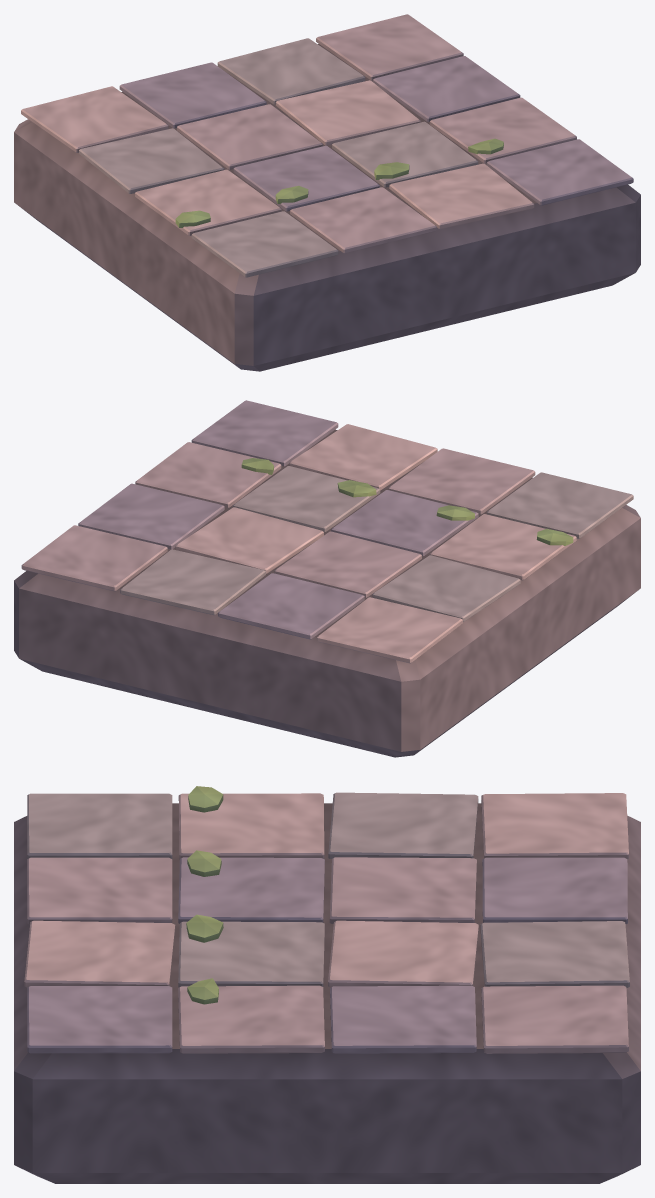
The model's file is dusk_floor_2.glb.
The picture shows the model from 3 angles, top to bottom: view 1: azimuth 30°, elevation 25°; view 2: azimuth 150°, elevation 25°; view 3: azimuth 270°, elevation 25°; orthographic projection. The views are drawn at different scales.
Parts seen in each view (by area): view 1: Dämmergänge · Platten und Moos.002; view 2: Dämmergänge · Platten und Moos.002; view 3: Dämmergänge · Platten und Moos.002.
Boxes of the visible parts, x1=… form: Dämmergänge · Platten und Moos.002: x1=14, y1=14, x2=640, y2=371; Dämmergänge · Platten und Moos.002: x1=14, y1=400, x2=640, y2=757; Dämmergänge · Platten und Moos.002: x1=14, y1=786, x2=640, y2=1183.
Bounding box in the file's own units: 2.4 × 0.631 × 2.4.
1 material, 1 textured.
